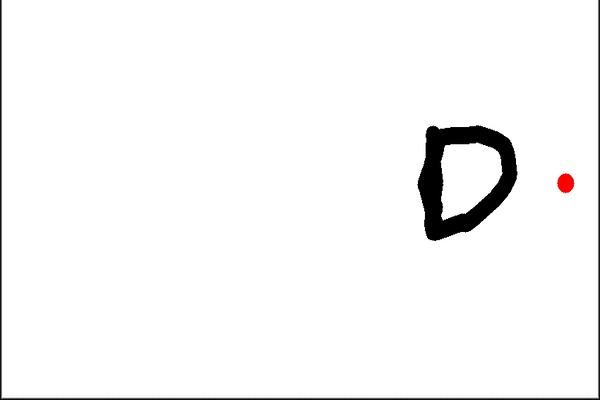D: (412, 117, 520, 245)
